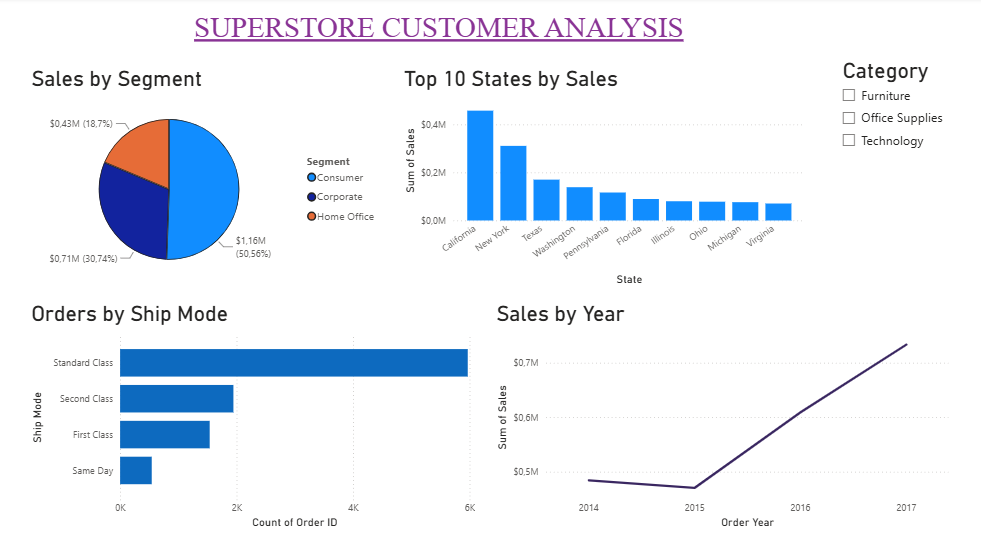

The dashboard page shown, as its layout file describes it:
{"tool":"powerbi","page":{"name":"Customer Analysis","canvas":[1280,720],"ordinal":2},"visuals":[{"type":"pieChart","title":"Sales by Segment","fields":{"Category":["superstore_cleaned.Segment"],"Y":["Sum(superstore_cleaned.Sales)"]},"box":[37.8,88.9,463.4,289.4],"z":0},{"type":"columnChart","title":"Top 10 States by Sales","fields":{"Category":["superstore_cleaned.State"],"Y":["Sum(superstore_cleaned.Sales)"]},"box":[520.1,88.9,529.6,289.4],"z":1000},{"type":"barChart","title":"Orders by Ship Mode","fields":{"Category":["superstore_cleaned.Ship Mode"],"Y":["CountNonNull(superstore_cleaned.Order ID)"]},"box":[37.8,393.4,584.4,300.7],"z":2000},{"type":"lineChart","title":"Sales by Year","fields":{"Y":["Sum(superstore_cleaned.Sales)"],"Category":["superstore_cleaned.Order Year"]},"box":[639.2,393.4,595.7,300.7],"z":3000},{"type":"slicer","fields":{"Values":["superstore_cleaned.Category"]},"box":[1079.9,73.8,179.7,187.2],"z":4000},{"type":"textbox","box":[247.8,13.2,747,60.5],"z":5000}]}

Visuals, with their boxes in screenshot pixels (x1, y1, x2, y2), scaled from the page's 1280x720 canvas onto the 981x546 screenshot:
"Sales by Segment" pieChart: region(29, 67, 384, 287)
"Top 10 States by Sales" columnChart: region(399, 67, 804, 287)
"Orders by Ship Mode" barChart: region(29, 298, 477, 526)
"Sales by Year" lineChart: region(490, 298, 946, 526)
slicer - superstore_cleaned.Category: region(828, 56, 965, 198)
textbox: region(190, 10, 762, 56)
